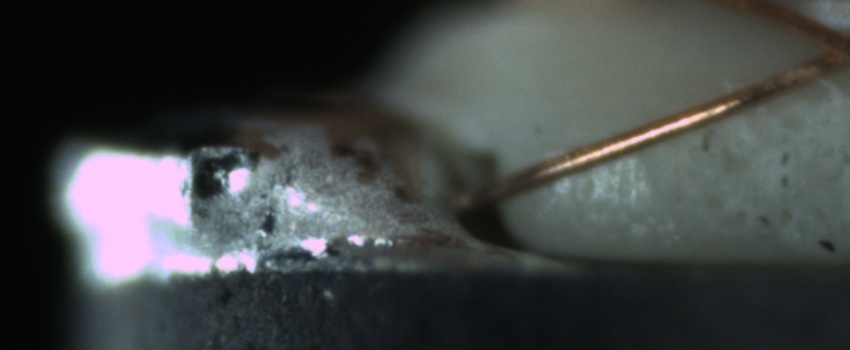CL: (797, 15, 848, 80)
